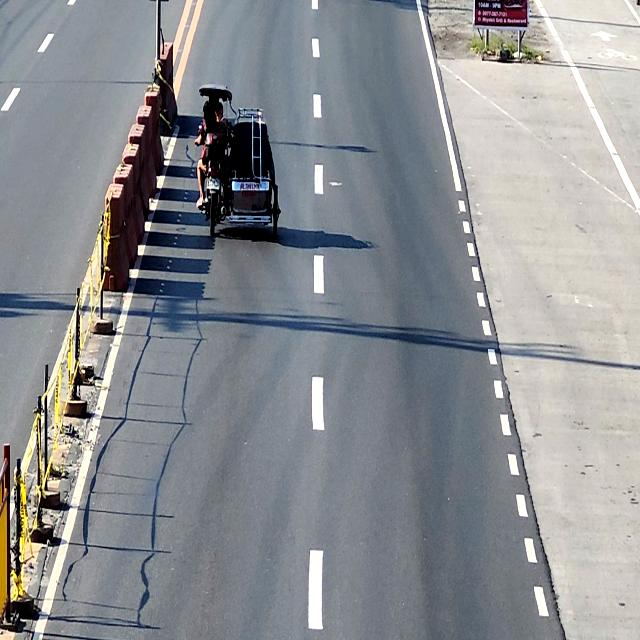License-Plate: (206, 179, 219, 190)
Tricycle: (195, 82, 280, 240)
